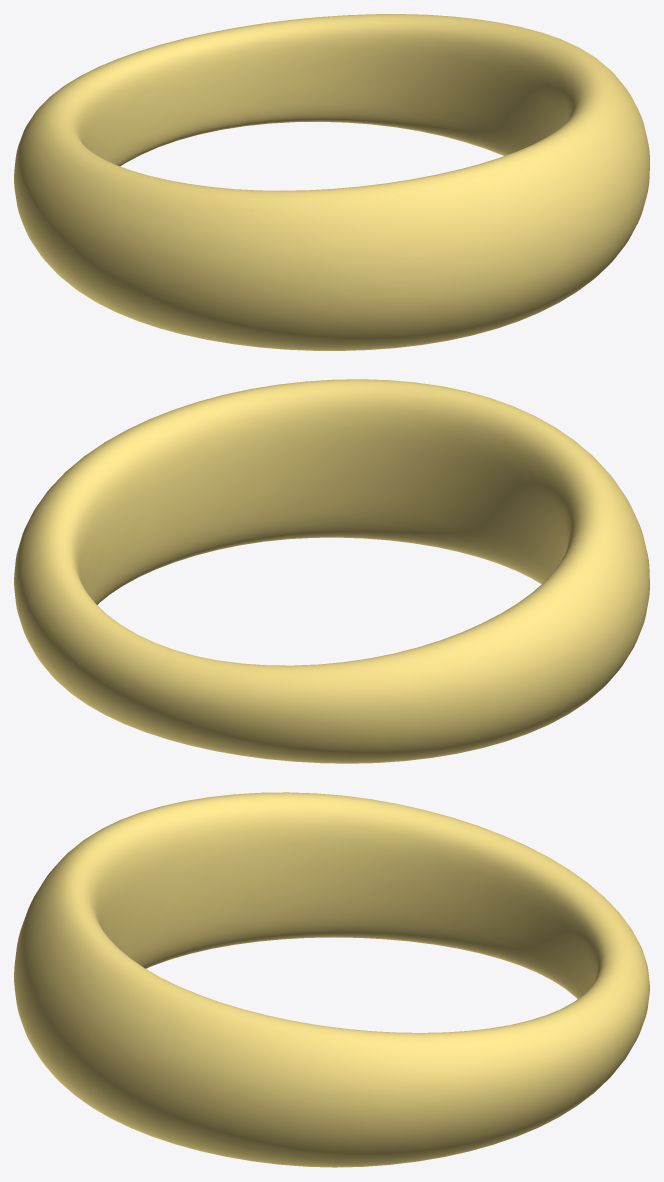
The model's file is ring.optimized.glb.
3 views of the same model, one above another, from view 1: azimuth 30°, elevation 25°; view 2: azimuth 150°, elevation 25°; view 3: azimuth 270°, elevation 25° (orthographic).
Parts seen in each view (by area): view 1: Cylinder_Material.001_0, Cylinder_Material.002_0; view 2: Cylinder_Material.001_0; view 3: Cylinder_Material.001_0, Cylinder_Material.002_0.
Part boxes in pixels (x1=…): Cylinder_Material.001_0: x1=14, y1=14, x2=649, y2=350; Cylinder_Material.002_0: x1=246, y1=119, x2=639, y2=349; Cylinder_Material.001_0: x1=14, y1=379, x2=649, y2=763; Cylinder_Material.001_0: x1=54, y1=792, x2=649, y2=1167; Cylinder_Material.002_0: x1=14, y1=838, x2=138, y2=1126.
Bounding box in the file's own units: 1.54 × 0.4338 × 1.51.
